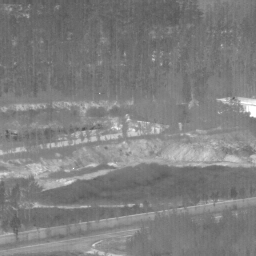aircraft: (98, 92, 100, 94)
